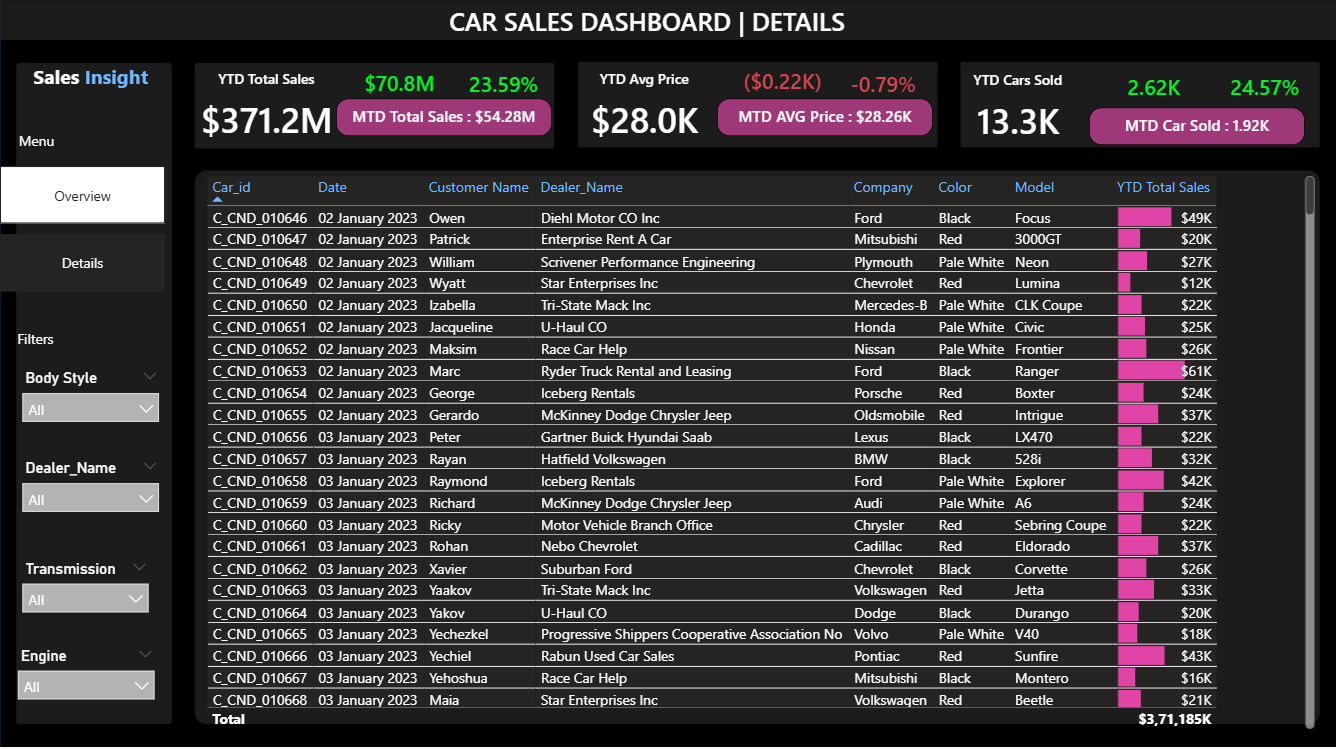

This screenshot's page, from the dashboard's own definition file:
{"tool":"powerbi","page":{"name":"Details","canvas":[1280,720],"ordinal":1},"visuals":[{"type":"card","title":"YTD Total Sales","fields":{"Values":["car_data.YTD Total Sales"]},"box":[180.9,67.5,147.9,79],"z":0},{"type":"card","fields":{"Values":["car_data.Sales Difference"]},"box":[338.9,57.4,86.2,50.3],"z":1000},{"type":"card","fields":{"Values":["car_data.YOY Growth"]},"box":[440.9,53.1,81.9,61.8],"z":2000},{"type":"card","fields":{"Values":["car_data.MTD kpi"]},"box":[321.7,96.2,206.8,35.9],"z":3000},{"type":"card","title":"YTD Avg Price","fields":{"Values":["car_data.YTD Total Avg Sales"]},"box":[540,67.5,153.7,79],"z":4000},{"type":"card","fields":{"Values":["car_data.AVG Price Diff"]},"box":[700.8,53.1,96.2,54.6],"z":5000},{"type":"card","fields":{"Values":["car_data.YOY AVG Growth"]},"box":[797,50.3,96.2,67.5],"z":6000},{"type":"card","fields":{"Values":["car_data.MTD AVG KPI"]},"box":[686.4,96.2,206.8,35.9],"z":7000},{"type":"card","title":"YTD Cars Sold","fields":{"Values":["car_data.YTD Car Sold"]},"box":[904.7,68.9,139.3,79],"z":8000},{"type":"card","fields":{"Values":["car_data.Car Sold Difference"]},"box":[1062.7,50.3,83.3,71.8],"z":9000},{"type":"card","fields":{"Values":["car_data.YOY Car Sold Growth"]},"box":[1157.5,57.4,106.3,57.4],"z":10000},{"type":"card","fields":{"Values":["car_data.Mtd Car Sold Kpi"]},"box":[1042.6,104.8,206.8,35.9],"z":11000},{"type":"slicer","fields":{"Values":["car_data.Body Style"]},"box":[11.5,350.4,150.8,73.2],"z":12000},{"type":"slicer","fields":{"Values":["car_data.Dealer_Name"]},"box":[11.5,436.6,150.8,73.2],"z":13000},{"type":"slicer","fields":{"Values":["car_data.Transmission"]},"box":[11.5,532.8,140.7,71.8],"z":14000},{"type":"slicer","fields":{"Values":["car_data.Engine"]},"box":[7.2,616.1,150.8,73.2],"z":15000},{"type":"textbox","box":[11.5,311.6,48.8,28.7],"z":16000},{"type":"textbox","box":[425.1,0,420.8,50.3],"z":17000},{"type":"textbox","box":[11.5,57.4,150.8,47.4],"z":18000},{"type":"textbox","box":[12.9,122.1,122.1,38.8],"z":19000},{"type":"tableEx","fields":{"Values":["car_data.Car_id","car_data.Date","car_data.Customer Name","car_data.Dealer_Name","car_data.Company","car_data.Color","car_data.Model","car_data.YTD Total Sales"]},"box":[192.7,165.9,1071.3,539.4],"z":20000},{"type":"pageNavigator","box":[0,161.4,158.4,121],"z":21000}]}

Visuals, with their boxes on the page's 1280x720 design canvas (x1, y1, x2, y2). These are canvas units, not pixel positions in the 1336x750 screenshot, which may show the page scaled, cropped or inside an application window:
"YTD Total Sales" card: {"x1": 181, "y1": 68, "x2": 329, "y2": 146}
card - car_data.Sales Difference: {"x1": 339, "y1": 57, "x2": 425, "y2": 108}
card - car_data.YOY Growth: {"x1": 441, "y1": 53, "x2": 523, "y2": 115}
card - car_data.MTD kpi: {"x1": 322, "y1": 96, "x2": 528, "y2": 132}
"YTD Avg Price" card: {"x1": 540, "y1": 68, "x2": 694, "y2": 146}
card - car_data.AVG Price Diff: {"x1": 701, "y1": 53, "x2": 797, "y2": 108}
card - car_data.YOY AVG Growth: {"x1": 797, "y1": 50, "x2": 893, "y2": 118}
card - car_data.MTD AVG KPI: {"x1": 686, "y1": 96, "x2": 893, "y2": 132}
"YTD Cars Sold" card: {"x1": 905, "y1": 69, "x2": 1044, "y2": 148}
card - car_data.Car Sold Difference: {"x1": 1063, "y1": 50, "x2": 1146, "y2": 122}
card - car_data.YOY Car Sold Growth: {"x1": 1158, "y1": 57, "x2": 1264, "y2": 115}
card - car_data.Mtd Car Sold Kpi: {"x1": 1043, "y1": 105, "x2": 1249, "y2": 141}
slicer - car_data.Body Style: {"x1": 12, "y1": 350, "x2": 162, "y2": 424}
slicer - car_data.Dealer_Name: {"x1": 12, "y1": 437, "x2": 162, "y2": 510}
slicer - car_data.Transmission: {"x1": 12, "y1": 533, "x2": 152, "y2": 605}
slicer - car_data.Engine: {"x1": 7, "y1": 616, "x2": 158, "y2": 689}
textbox: {"x1": 12, "y1": 312, "x2": 60, "y2": 340}
textbox: {"x1": 425, "y1": 0, "x2": 846, "y2": 50}
textbox: {"x1": 12, "y1": 57, "x2": 162, "y2": 105}
textbox: {"x1": 13, "y1": 122, "x2": 135, "y2": 161}
tableEx - car_data.Car_id x car_data.Date: {"x1": 193, "y1": 166, "x2": 1264, "y2": 705}
pageNavigator: {"x1": 0, "y1": 161, "x2": 158, "y2": 282}
